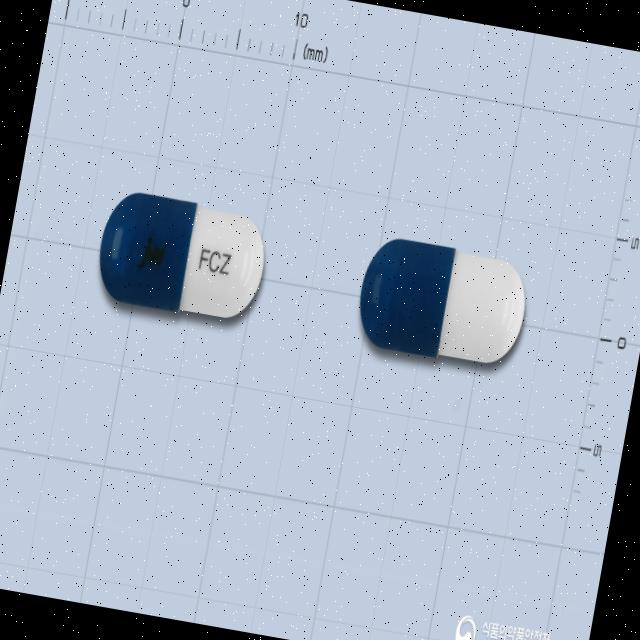Oneflu Cap: (91, 185, 274, 328), (350, 234, 532, 374)
